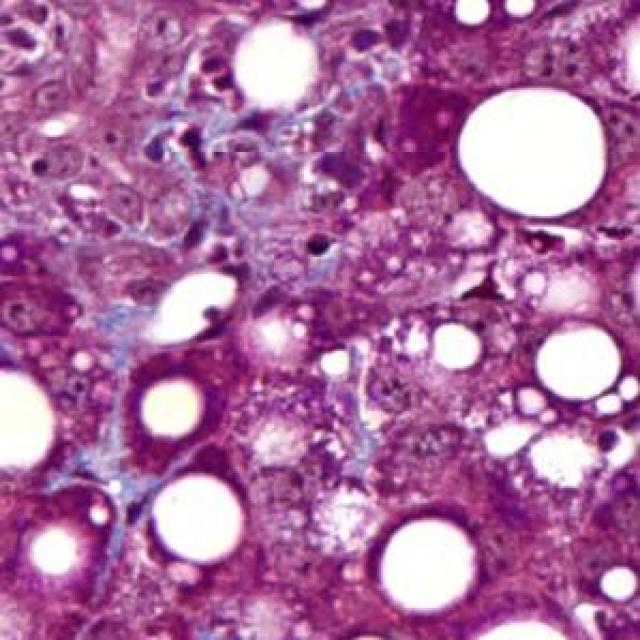steatosis: (460, 88, 614, 214), (379, 518, 479, 619), (150, 479, 250, 563), (533, 319, 627, 402), (142, 386, 206, 434)
